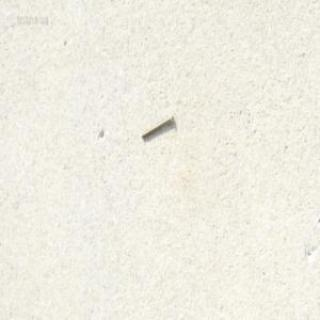Bolttrack_idkeyframe: (140, 112, 174, 139)
